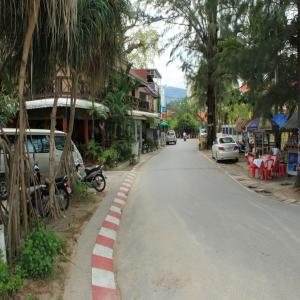Vehicle-registration-plate: (103, 171, 107, 178), (68, 189, 72, 194)
